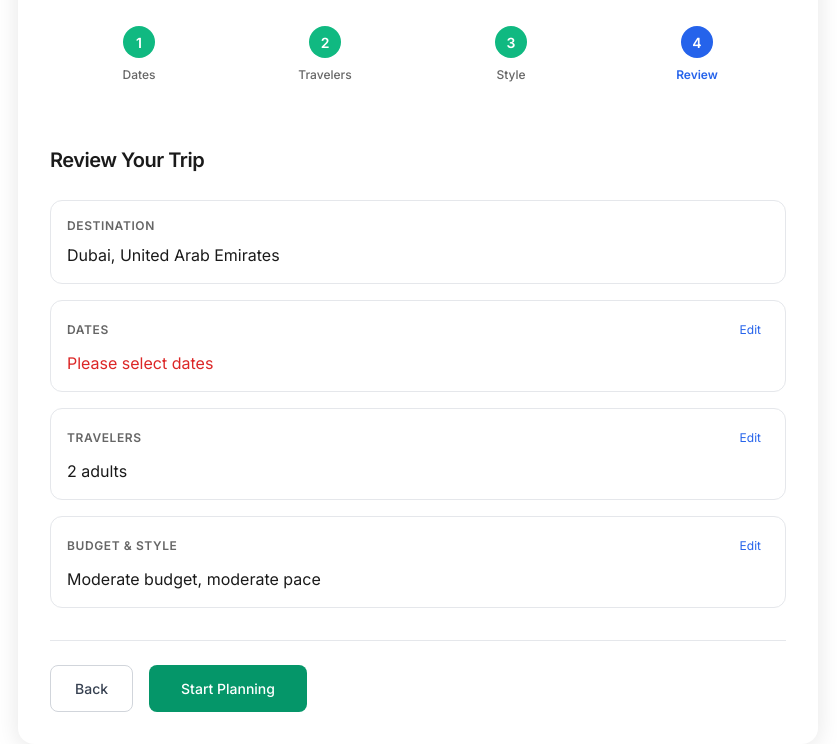
it: TripSetupWizard Integration › Complete Wizard Flow › should navigate backward through steps
The width and height of the screenshot is (837, 744).
(page scrolled)
Click the button "Back": (92, 688) x1=50 y1=665 x2=133 y2=712
(page scrolled)
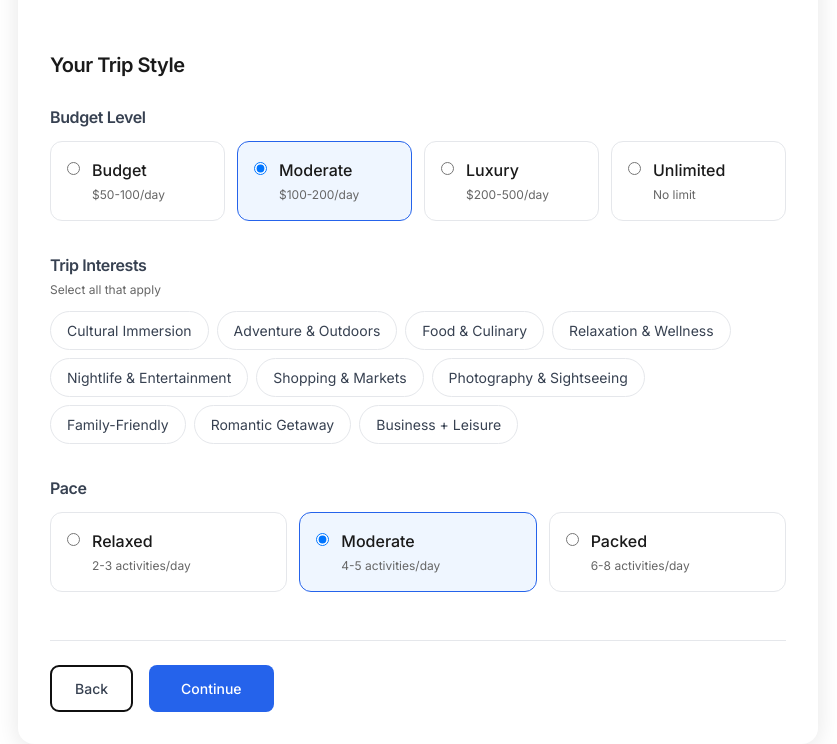
Expected: the element with test id "step-preferences" is shown
Click the button "Back": (92, 688) x1=50 y1=665 x2=133 y2=712
(page scrolled)
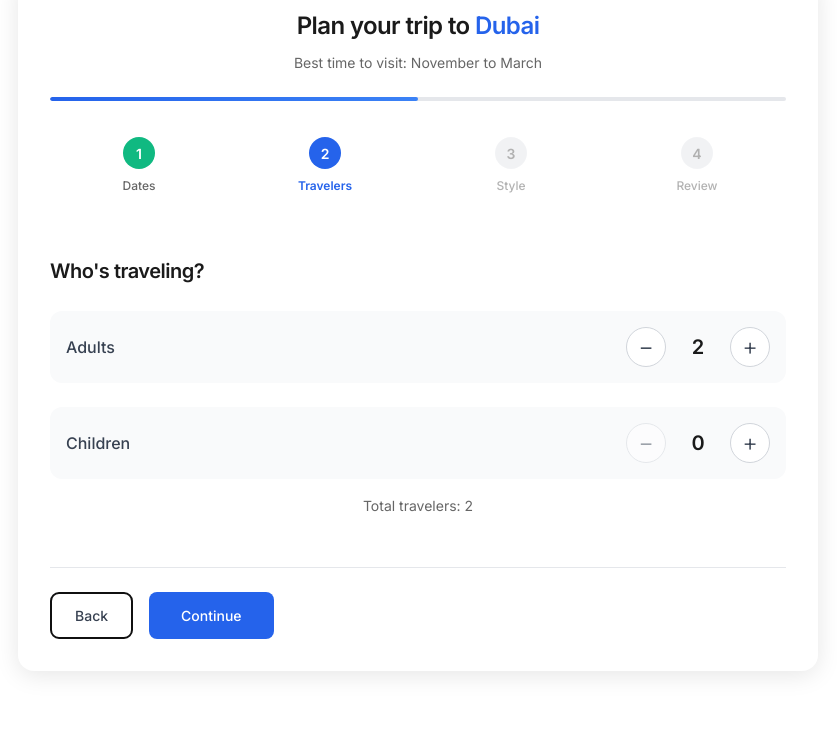
Expected: the element with test id "step-travelers" is shown, x1=50 y1=239 x2=786 y2=532
Click the button "Back": (92, 616) x1=50 y1=592 x2=133 y2=639
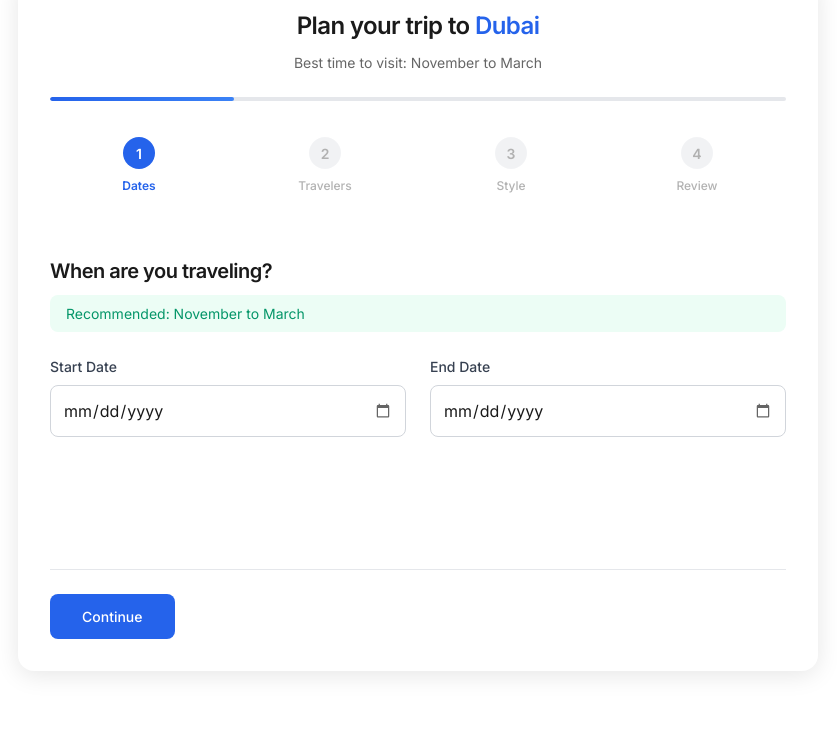
Expected: the element with test id "step-dates" is shown, x1=50 y1=239 x2=786 y2=469
Expected: the button "Back" is gone
